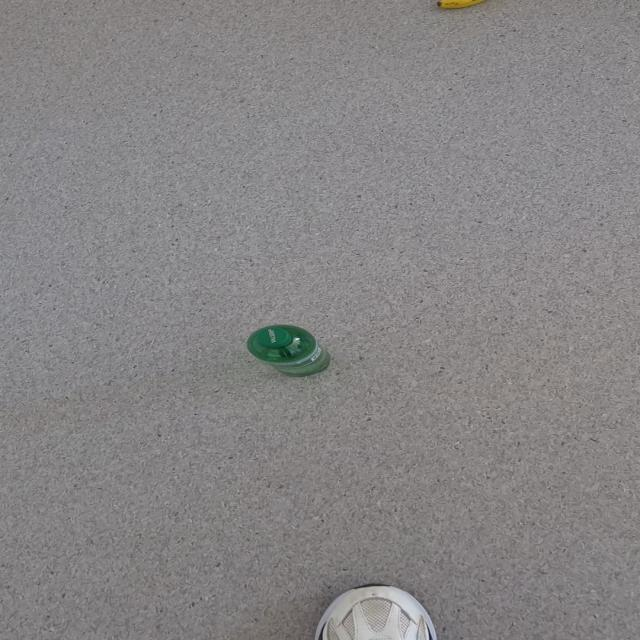banana: (436, 0, 486, 9)
bottle: (245, 324, 331, 377)
